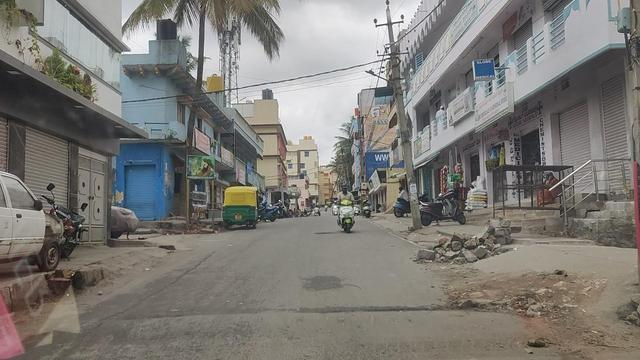LMV: (335, 184, 359, 238)
RoadDamages: (328, 279, 367, 301)
SpeedBump: (81, 306, 512, 351)
